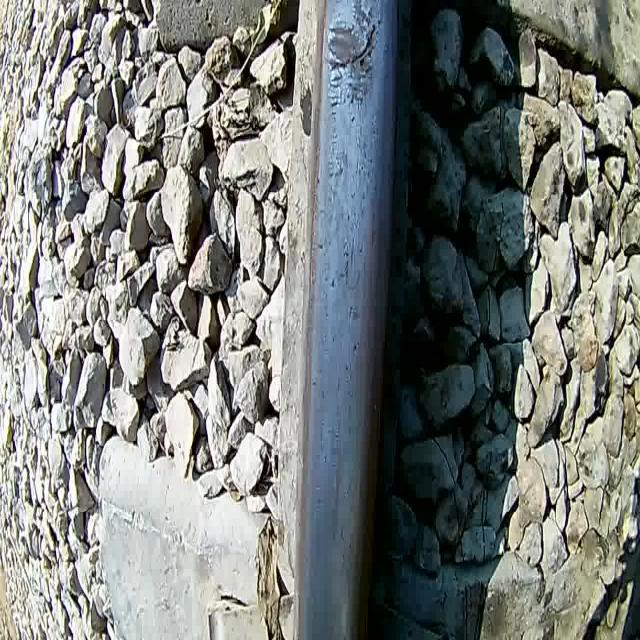Squats: (322, 17, 364, 70)
